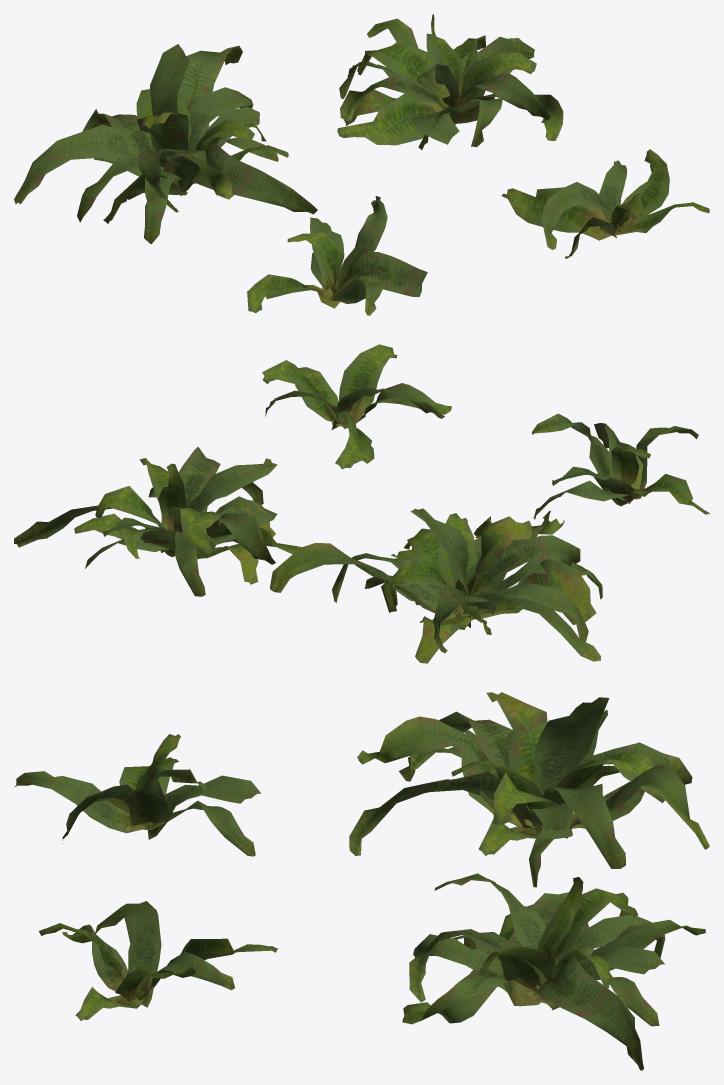
File: fern_02.glb
3 views of the same model, one above another, from view 1: azimuth 30°, elevation 25°; view 2: azimuth 150°, elevation 25°; view 3: azimuth 270°, elevation 25° (orthographic). The views are drawn at different scales.
Visible parts, largest first — view 1: fern_02_b; view 2: fern_02_b; view 3: fern_02_b.
Boxes of the visible parts, <box> form: fern_02_b: <box>14,14,709,315</box>; fern_02_b: <box>14,344,709,663</box>; fern_02_b: <box>15,692,709,1070</box>.
Size of the model in its own units: 1.97 by 0.4277 by 1.72.
1 material, 1 textured.
